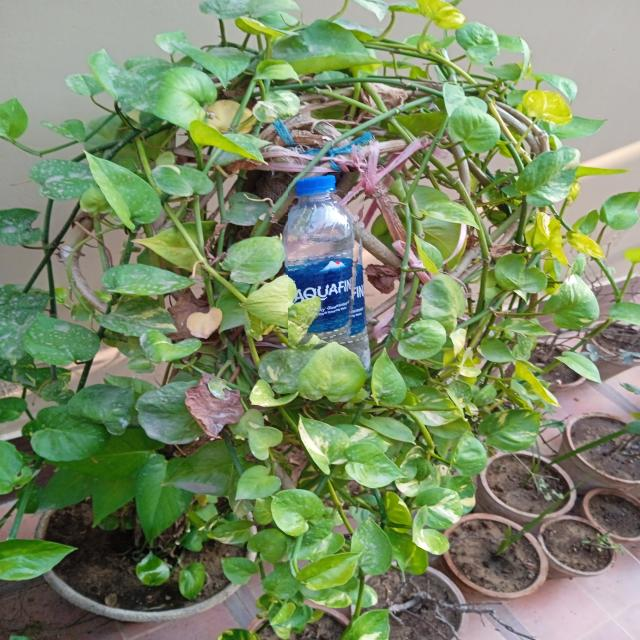Plastic: (288, 172, 368, 348)
